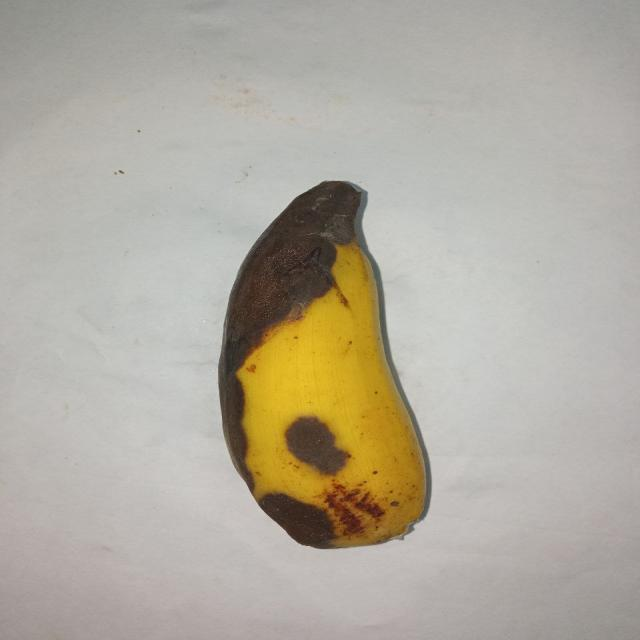rotten_banana: (214, 183, 432, 551)
